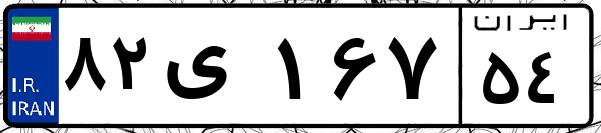1: (270, 28, 330, 110)
2: (110, 28, 158, 98)
4: (525, 38, 570, 115)
5: (475, 38, 525, 113)
6: (330, 28, 385, 110)
7: (385, 28, 445, 110)
8: (57, 26, 110, 100)
ی: (158, 20, 270, 120)
